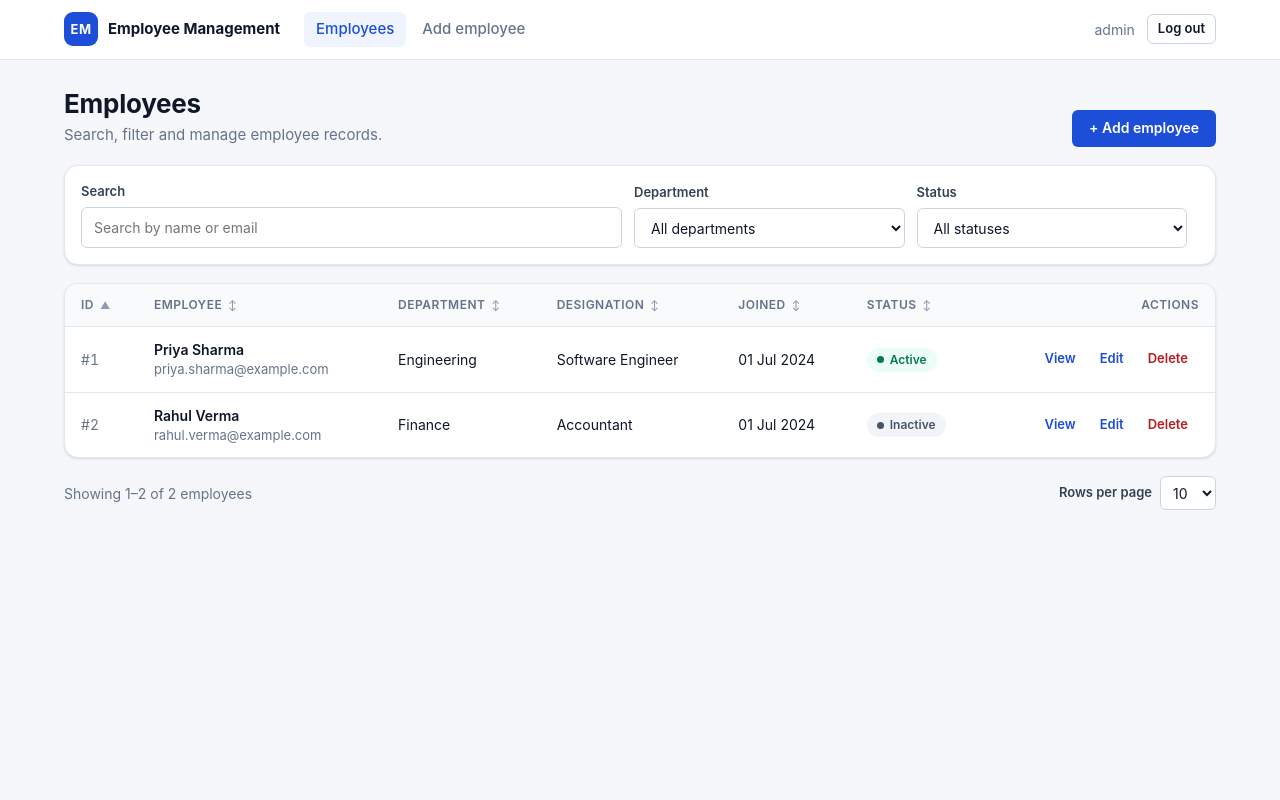
EmployeeListPage › asks for confirmation and only deletes after the user confirms
The width and height of the screenshot is (1280, 800).
Expected: the table is shown, [65,284,1215,457]
Click the button with aria-label "Delete Priya Sharma" at (1168, 359), box [1137,344,1199,374]
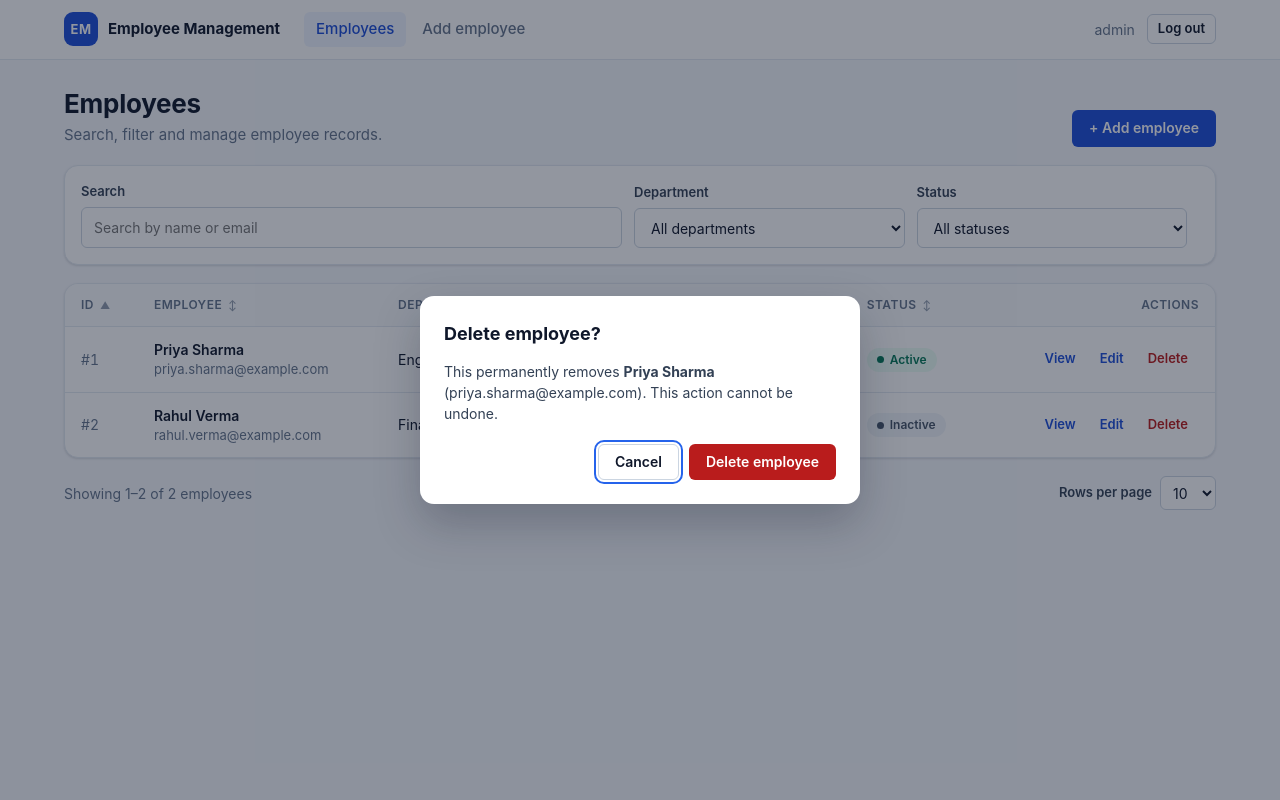
Result: the text "Priya Sharma" is shown at [624,363,715,380]
Click the button "Cancel" at (638, 462), box [598,444,679,480]
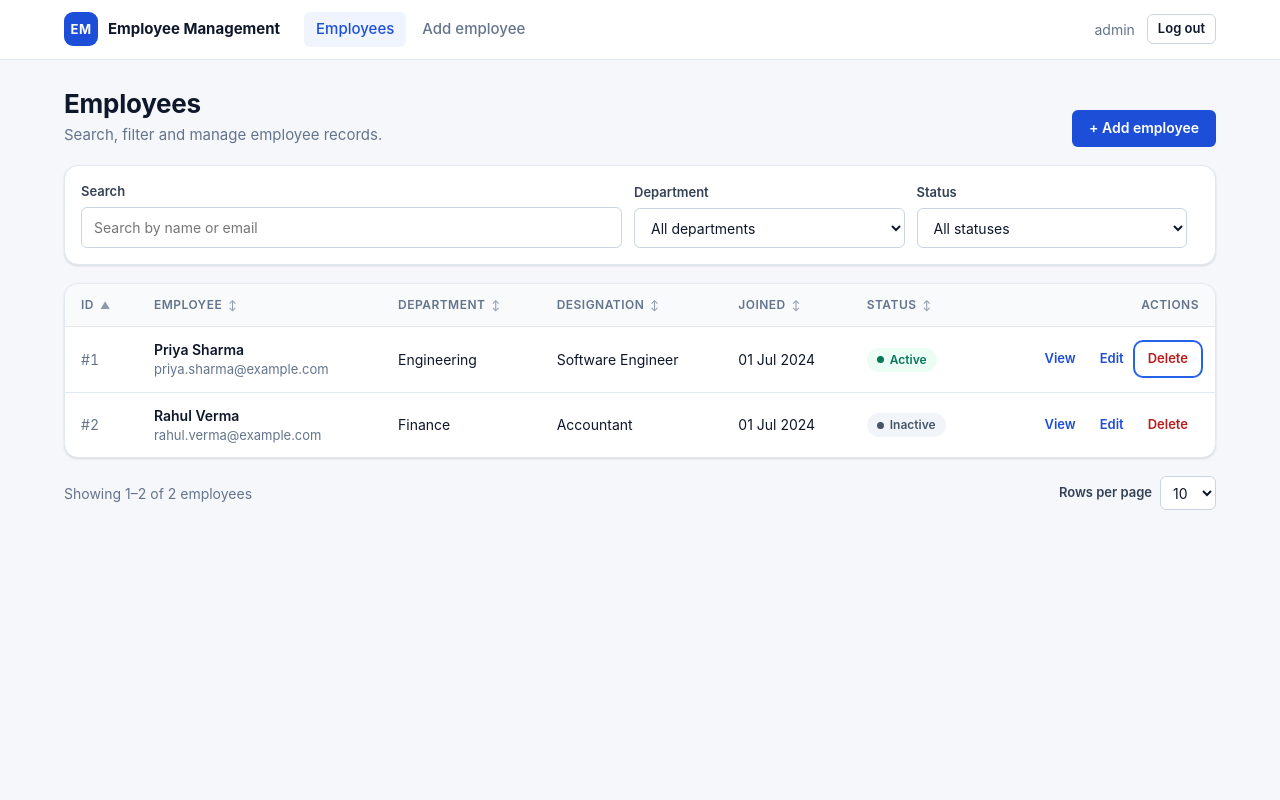
Result: the dialog is gone
Click the button with aria-label "Delete Priya Sharma" at (1168, 359), box [1137,344,1199,374]
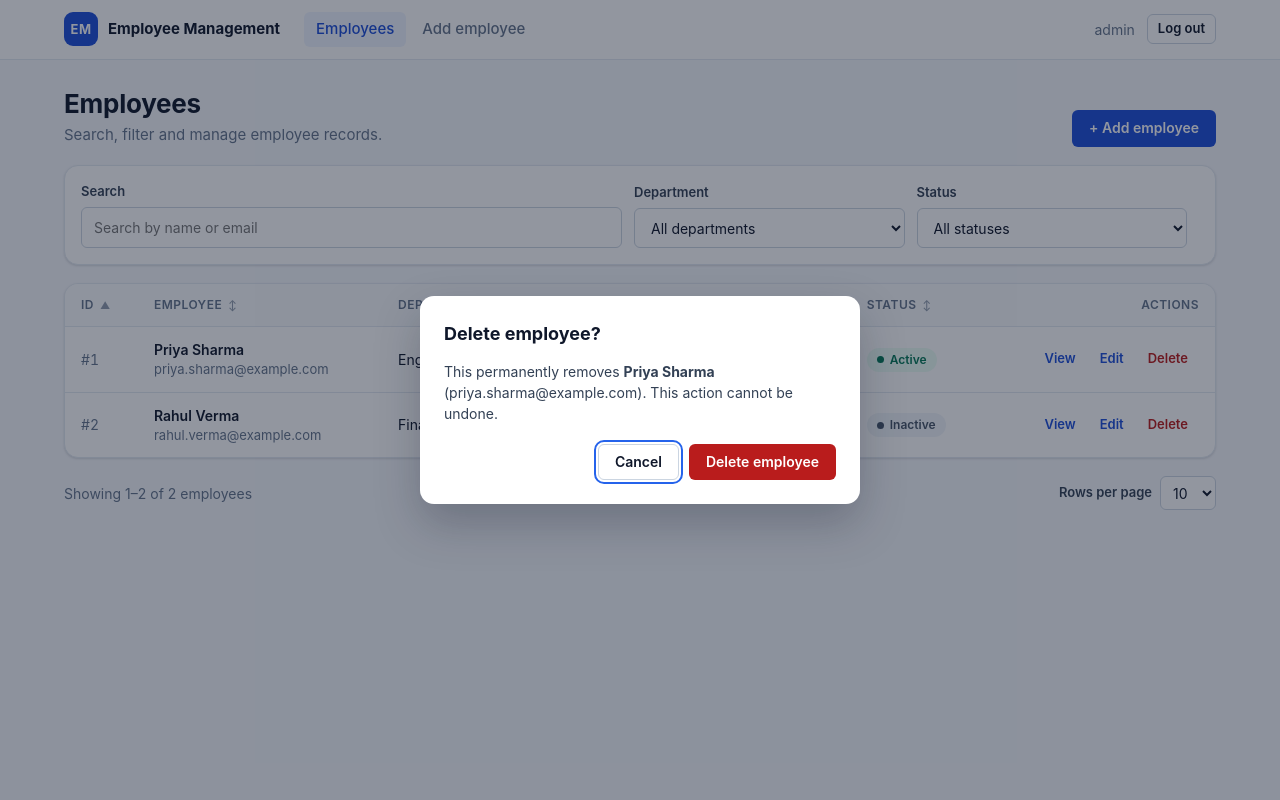
Click the button "Delete employee" at (762, 462), box [689,444,836,480]
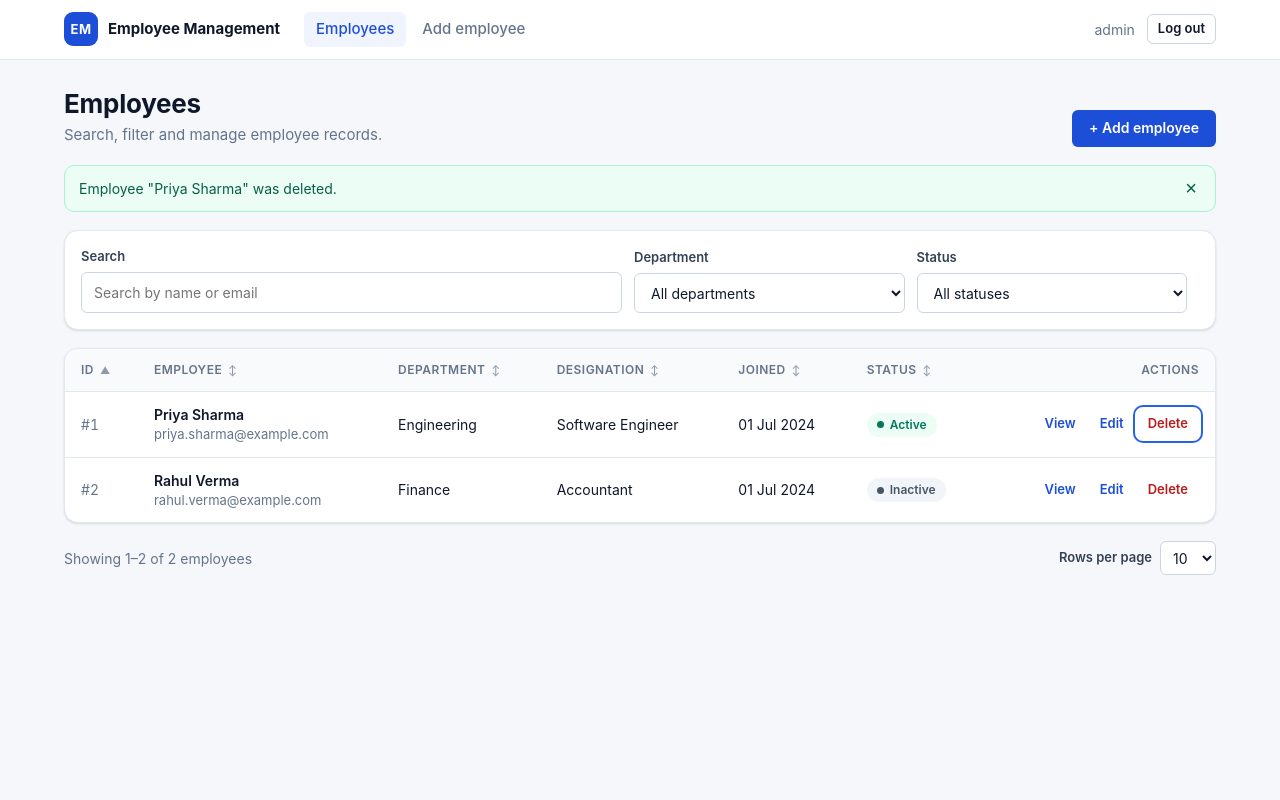
Result: the text "Employee \"Priya Sharma\" was deleted." is shown at [79,180,337,196]
